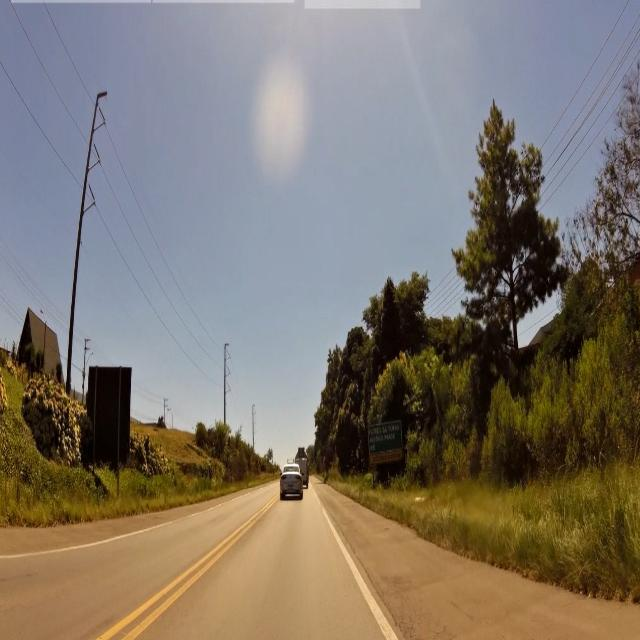I-4: (368, 425, 402, 451)
